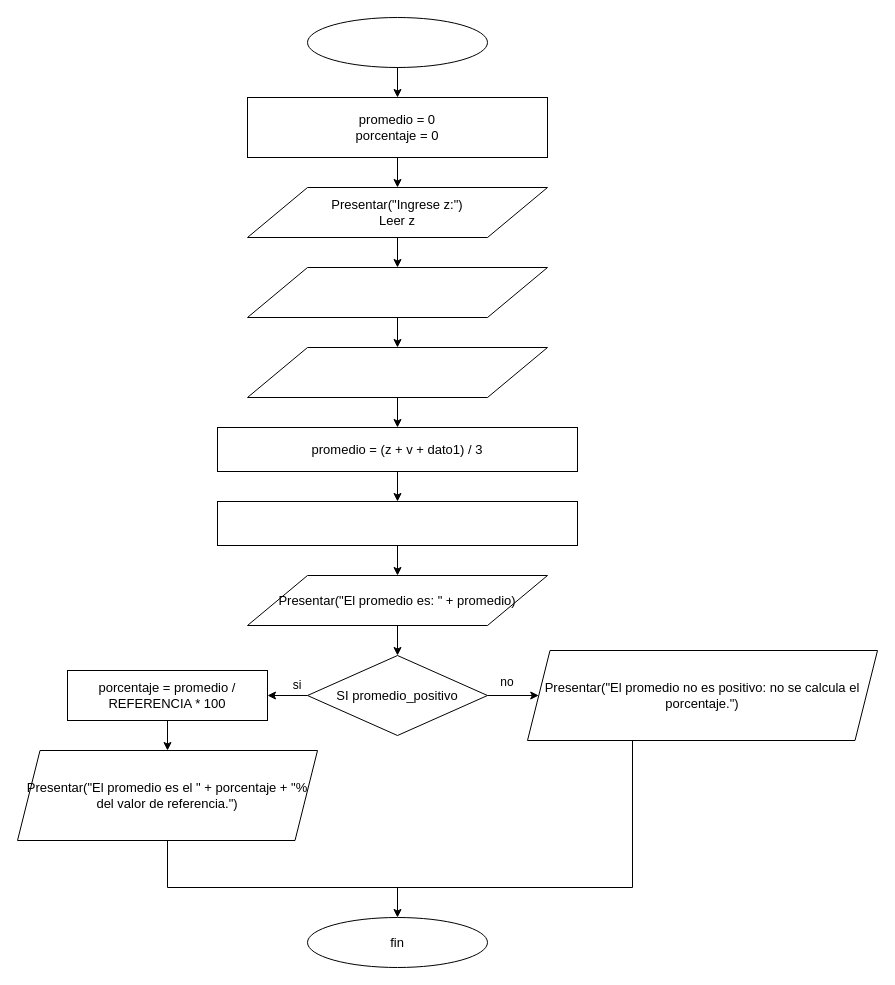
This 895x985 diagram has some shape labels left out. Here are the shapes that lost their labels. From the top down, the centre of each, then its label:
pixel 397 42: inicio
pixel 397 292: Presentar("Ingrese v:") Leer v
pixel 397 372: Presentar("Ingrese dato1:") Leer dato1
pixel 397 523: promedio_positivo = (promedio > 0)
